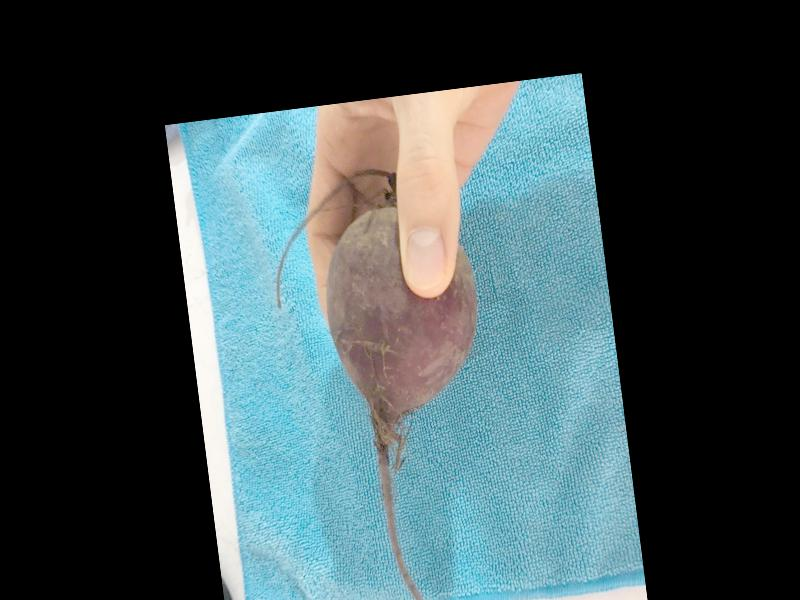Beet: (263, 159, 518, 600)
